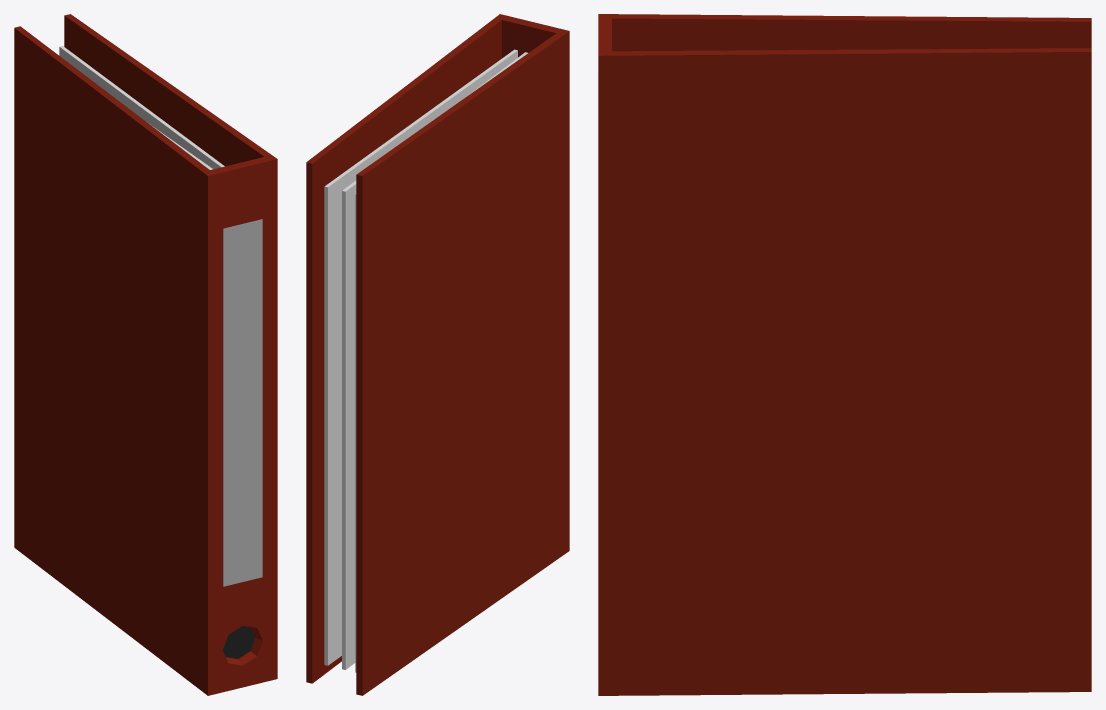
Rendered from FolderV1Red.fbx.
3 renders of one model, left to right at view 1: azimuth 30°, elevation 25°; view 2: azimuth 150°, elevation 25°; view 3: azimuth 270°, elevation 25°, orthographic. The views are drawn at different scales.
Parts seen in each view (by area): view 1: FolderV1Red; view 2: FolderV1Red; view 3: FolderV1Red.
Part boxes in pixels (x1=…): FolderV1Red: x1=14, y1=14, x2=277, y2=695; FolderV1Red: x1=306, y1=14, x2=569, y2=695; FolderV1Red: x1=598, y1=14, x2=1091, y2=695.
Size of the model in its own units: 4.8 by 34.23 by 23.92.
